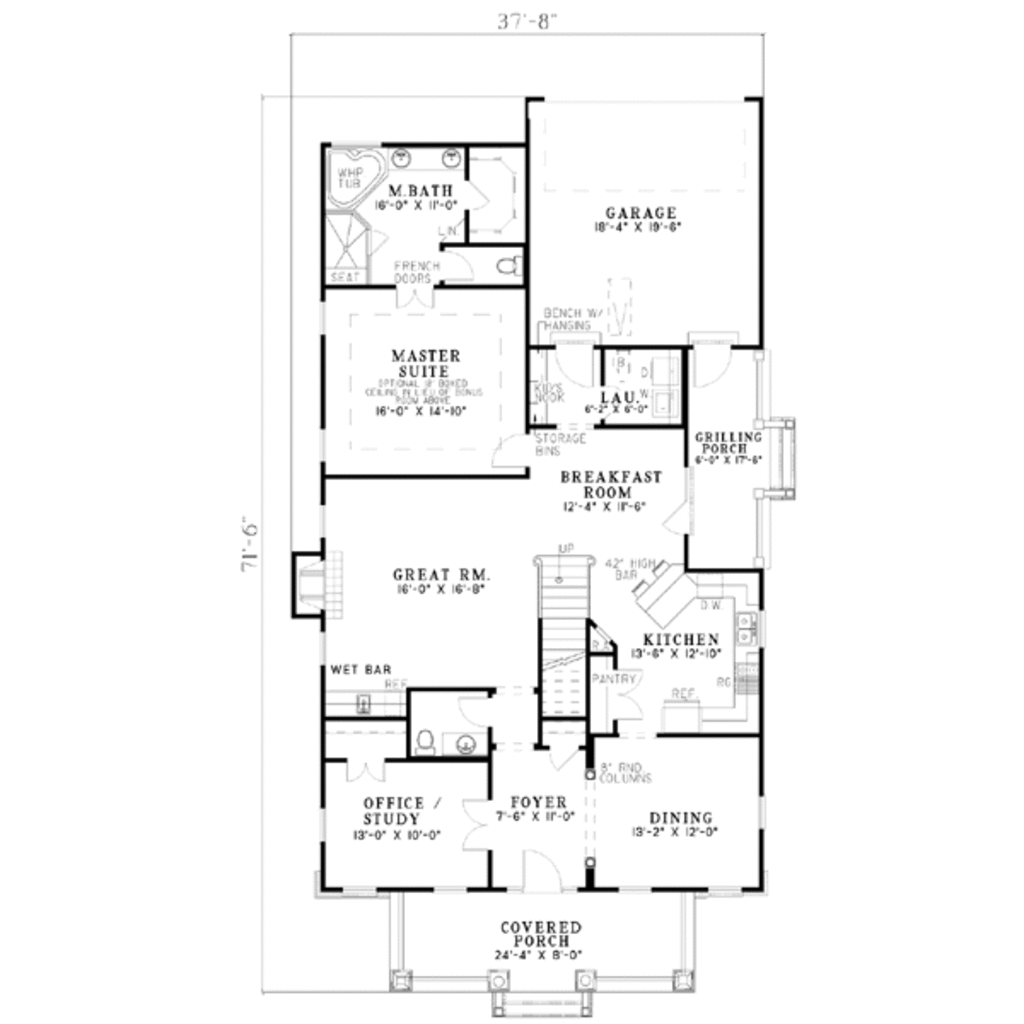door: (545, 317, 600, 389), (684, 325, 741, 392), (603, 657, 643, 730), (513, 846, 573, 892), (459, 793, 500, 857), (383, 270, 440, 308), (487, 422, 532, 470), (537, 737, 590, 775), (659, 493, 698, 543), (460, 687, 502, 732), (440, 243, 476, 285), (335, 754, 384, 784), (456, 176, 494, 212)
kitchen_bar: (627, 554, 729, 633)
large_sink: (486, 244, 533, 285), (410, 727, 448, 765)
small_sink: (392, 141, 465, 173), (446, 732, 484, 762)
stairs: (525, 552, 589, 722)
twin_sink: (729, 598, 756, 662)
